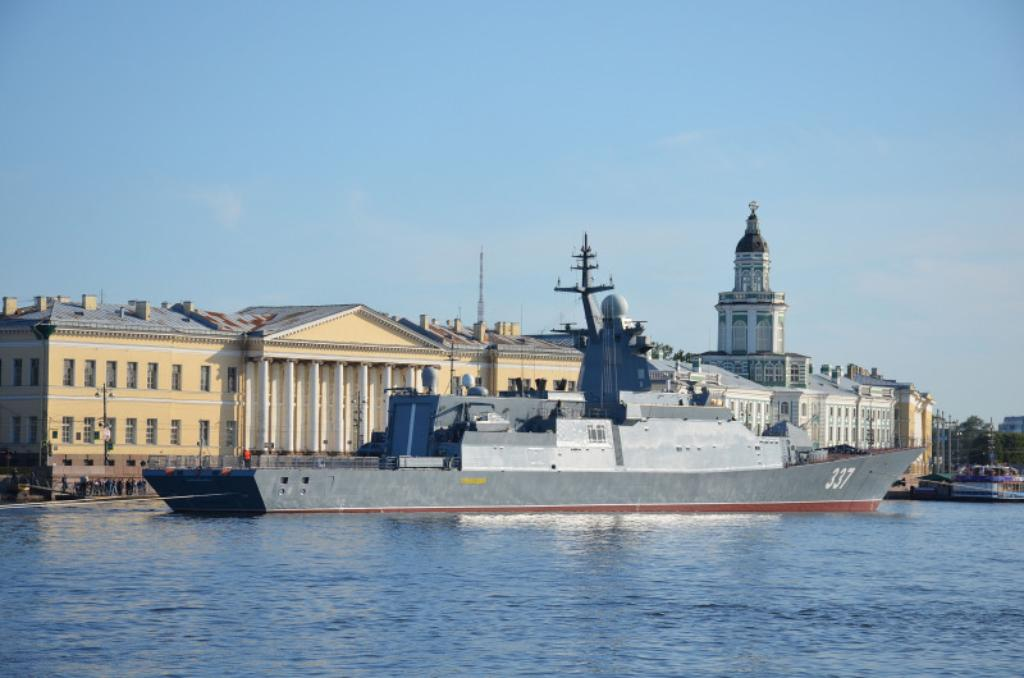Warship: (144, 228, 928, 516)
